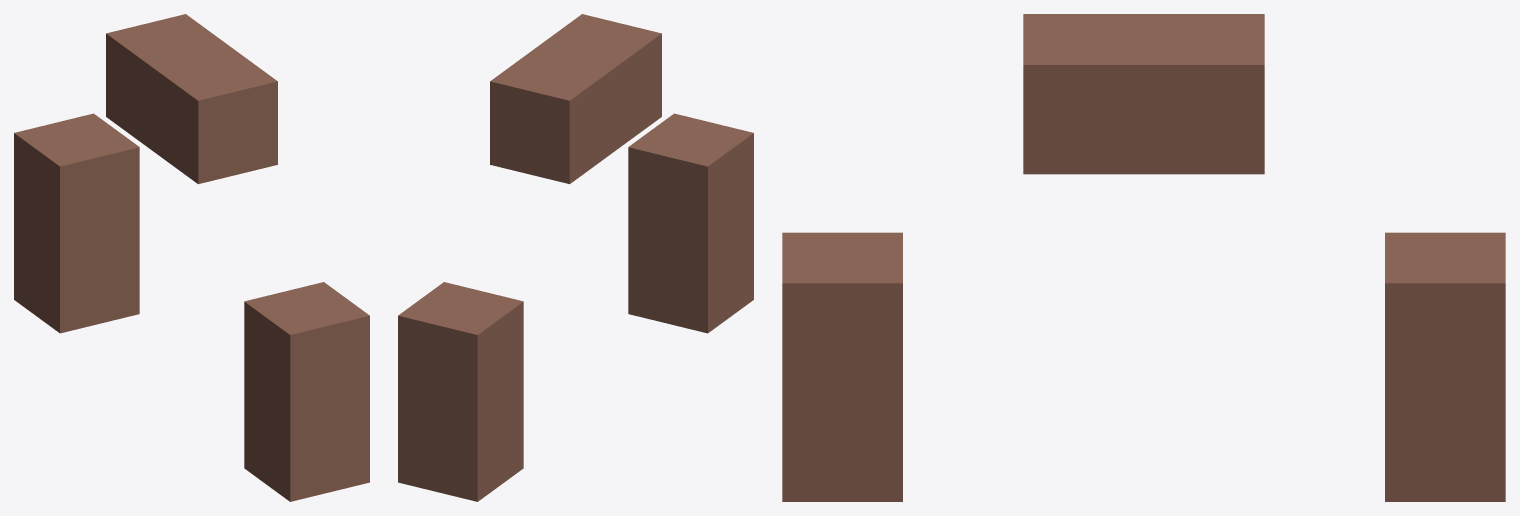
The model's file is can_big-5.fbx.
3 renders of one model, left to right at view 1: azimuth 30°, elevation 25°; view 2: azimuth 150°, elevation 25°; view 3: azimuth 270°, elevation 25°, orthographic. The views are drawn at different scales.
Parts seen in each view (by area): view 1: can_big-5.001; view 2: can_big-5.001; view 3: can_big-5.001.
Part boxes in pixels (left/top/right/bottom): can_big-5.001: left=14, top=14, right=369, bottom=501; can_big-5.001: left=398, top=14, right=753, bottom=501; can_big-5.001: left=782, top=14, right=1505, bottom=501.
Bounding box in the file's own units: 0.1 × 0.4 × 0.6.
Materials: 1 (1 with a texture image).
